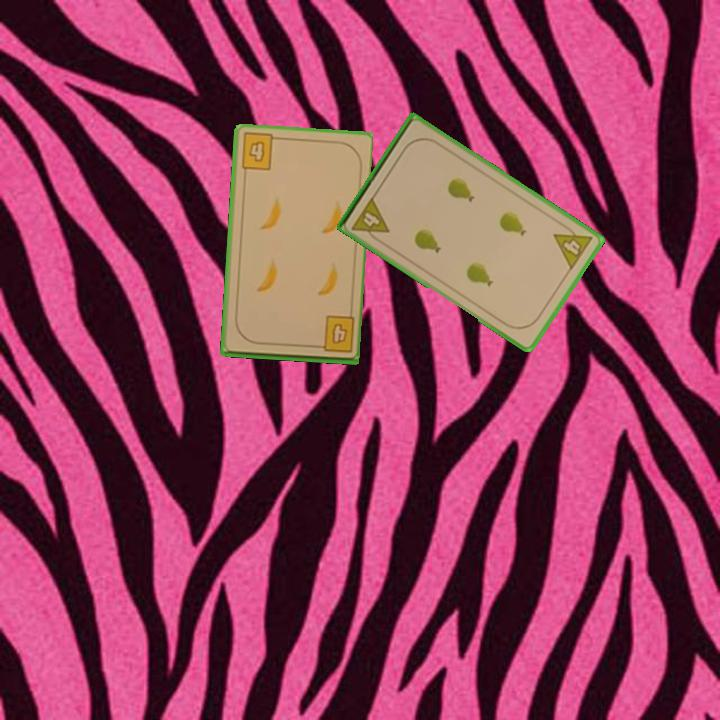4b: (310, 313, 357, 356), (238, 130, 282, 174)
4p: (550, 219, 595, 273), (348, 193, 392, 246)
